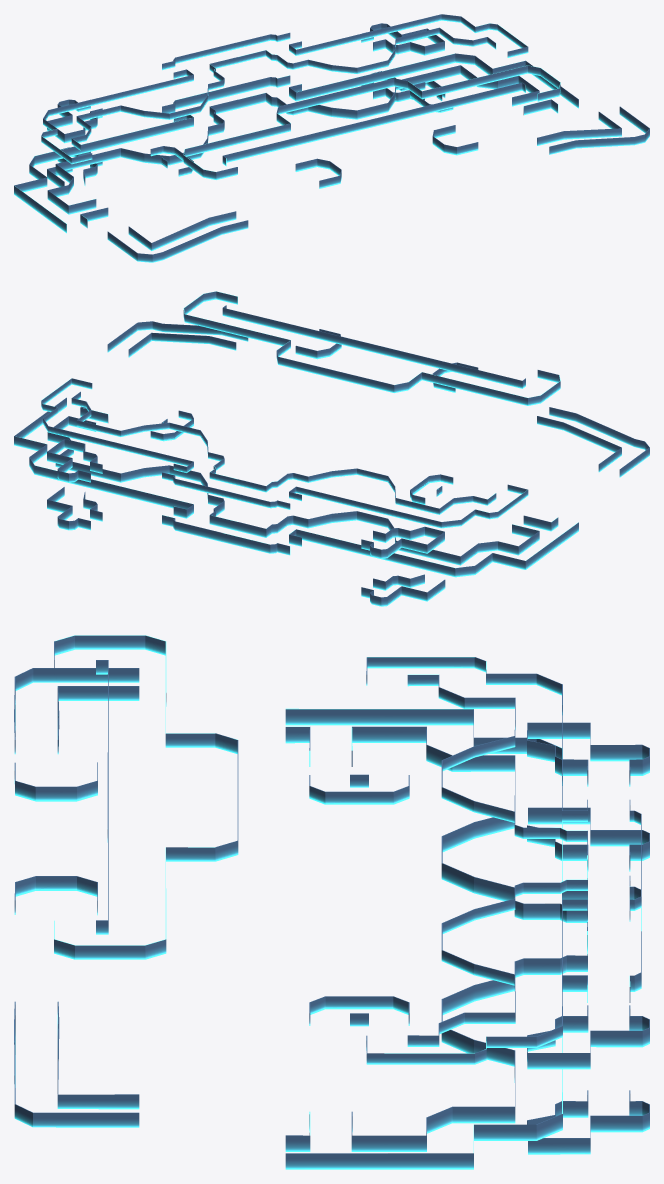
Rendered from wall_002 (2).fbx.
3 views of the same model, one above another, from view 1: azimuth 30°, elevation 25°; view 2: azimuth 150°, elevation 25°; view 3: azimuth 270°, elevation 25° (orthographic). The views are drawn at different scales.
Parts seen in each view (by area): view 1: m_Ins_Bld_M_Wall_002; view 2: m_Ins_Bld_M_Wall_002; view 3: m_Ins_Bld_M_Wall_002.
Boxes of the visible parts, left/top/right/bottom form: m_Ins_Bld_M_Wall_002: left=14, top=14, right=649, bottom=262; m_Ins_Bld_M_Wall_002: left=14, top=291, right=649, bottom=606; m_Ins_Bld_M_Wall_002: left=14, top=635, right=649, bottom=1169.
Bounding box in the file's own units: 64.67 × 13.47 × 39.05.
Materials: 1 (1 with a texture image).
